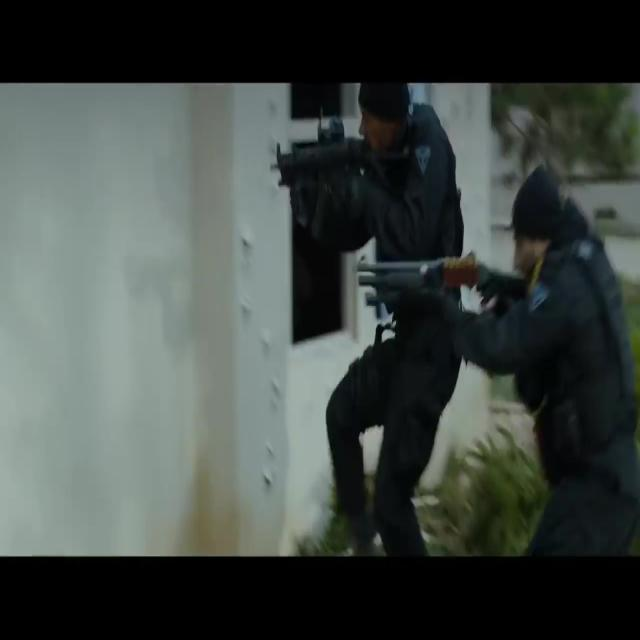Weapon: (338, 239, 579, 415), (239, 80, 401, 216)
